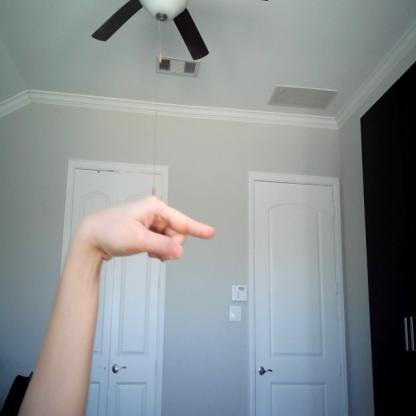G: (96, 192, 217, 266)
